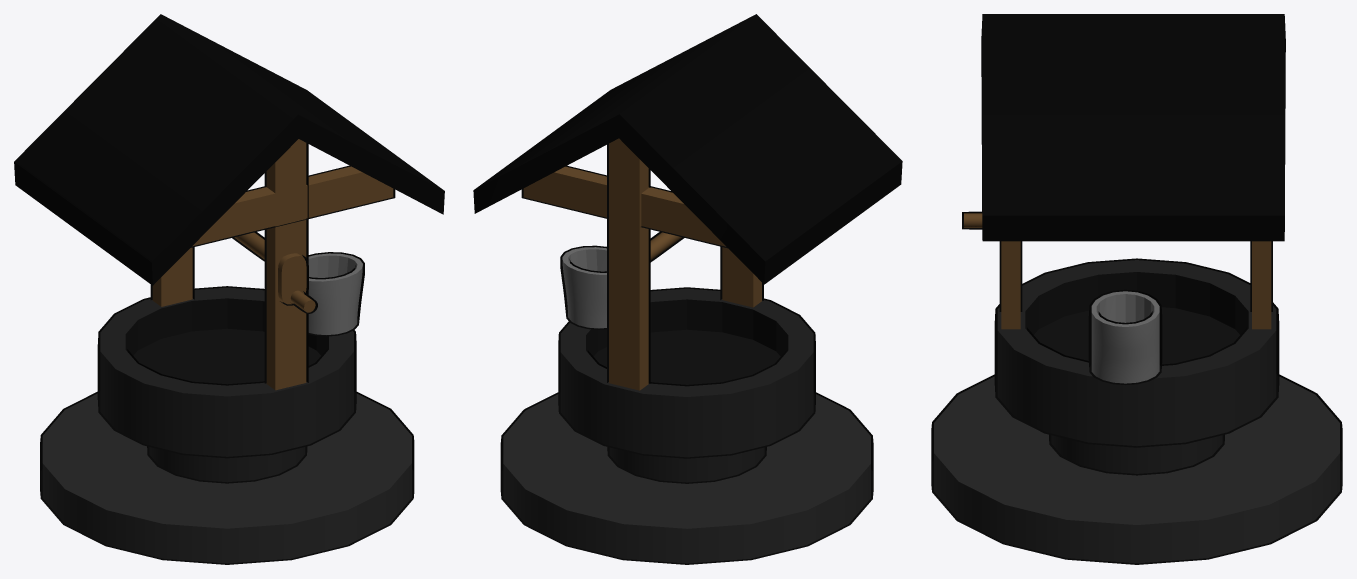
Rendered from Well.FBX.
3 renders of one model, left to right at view 1: azimuth 30°, elevation 25°; view 2: azimuth 150°, elevation 25°; view 3: azimuth 270°, elevation 25°, orthographic. The views are drawn at different scales.
Parts seen in each view (by area): view 1: Cylinder003; view 2: Cylinder003; view 3: Cylinder003.
Part boxes in pixels (x1,y1,x2,y2): Cylinder003: (14, 14, 444, 564); Cylinder003: (473, 14, 902, 564); Cylinder003: (931, 14, 1342, 564).
Size of the model in its own units: 24.52 by 30.01 by 24.15.
